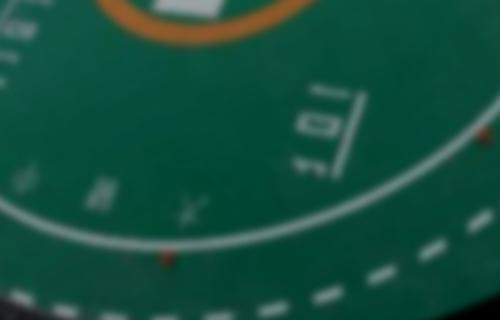Apron: (71, 1, 322, 54)
